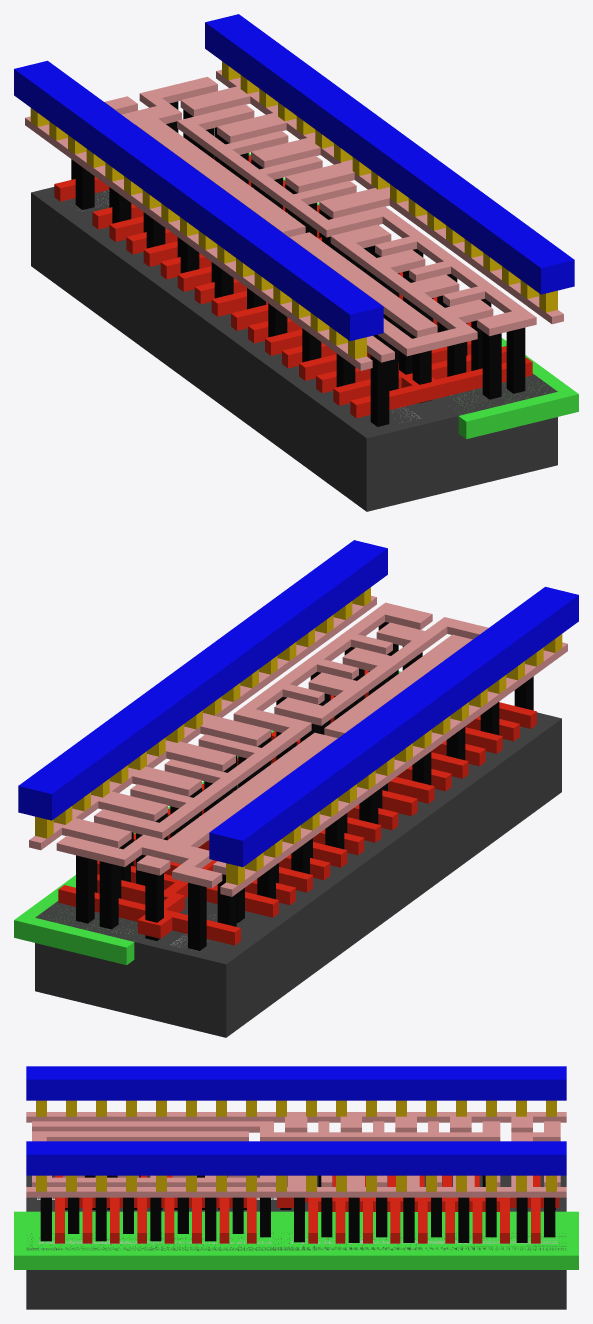
Rendered from sky130_fd_sc_hd__einvn_8.obj.
The picture shows the model from 3 angles, top to bottom: view 1: azimuth 30°, elevation 25°; view 2: azimuth 150°, elevation 25°; view 3: azimuth 270°, elevation 25°; orthographic projection. The views are drawn at different scales.
Parts seen in each view (by area): view 1: subs, metal1, li, licon, poly, mcon, nwell; view 2: subs, li, metal1, poly, licon, mcon, nwell; view 3: metal1, subs, nwell, li, poly, licon, mcon, tap.
Part boxes in pixels (left/top/right/bottom): subs: left=31, top=187, right=557, bottom=511; metal1: left=14, top=14, right=574, bottom=341; li: left=25, top=69, right=563, bottom=370; licon: left=71, top=101, right=525, bottom=426; poly: left=54, top=155, right=532, bottom=418; mcon: left=30, top=61, right=557, bottom=359; nwell: left=248, top=153, right=578, bottom=439; subs: left=35, top=712, right=561, bottom=1037; li: left=29, top=595, right=567, bottom=896; metal1: left=18, top=540, right=578, bottom=867; poly: left=58, top=670, right=536, bottom=945; licon: left=76, top=622, right=533, bottom=950; mcon: left=35, top=587, right=562, bottom=885; nwell: left=14, top=671, right=400, bottom=965; metal1: left=26, top=1066, right=566, bottom=1175; subs: left=26, top=1175, right=566, bottom=1309; nwell: left=14, top=1211, right=578, bottom=1269; li: left=26, top=1112, right=566, bottom=1197; poly: left=55, top=1175, right=559, bottom=1243; licon: left=40, top=1175, right=555, bottom=1242; mcon: left=36, top=1100, right=556, bottom=1191; tap: left=38, top=1233, right=557, bottom=1243.
Size of the model in its own units: 3.2 by 2.74 by 8.66.
